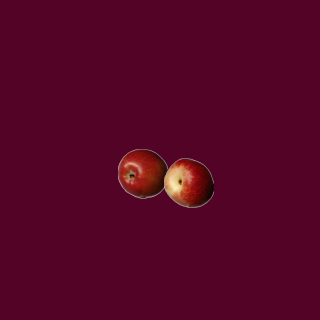Apple Braeburn: (117, 148, 167, 198)
Nectarine: (163, 157, 213, 207)
